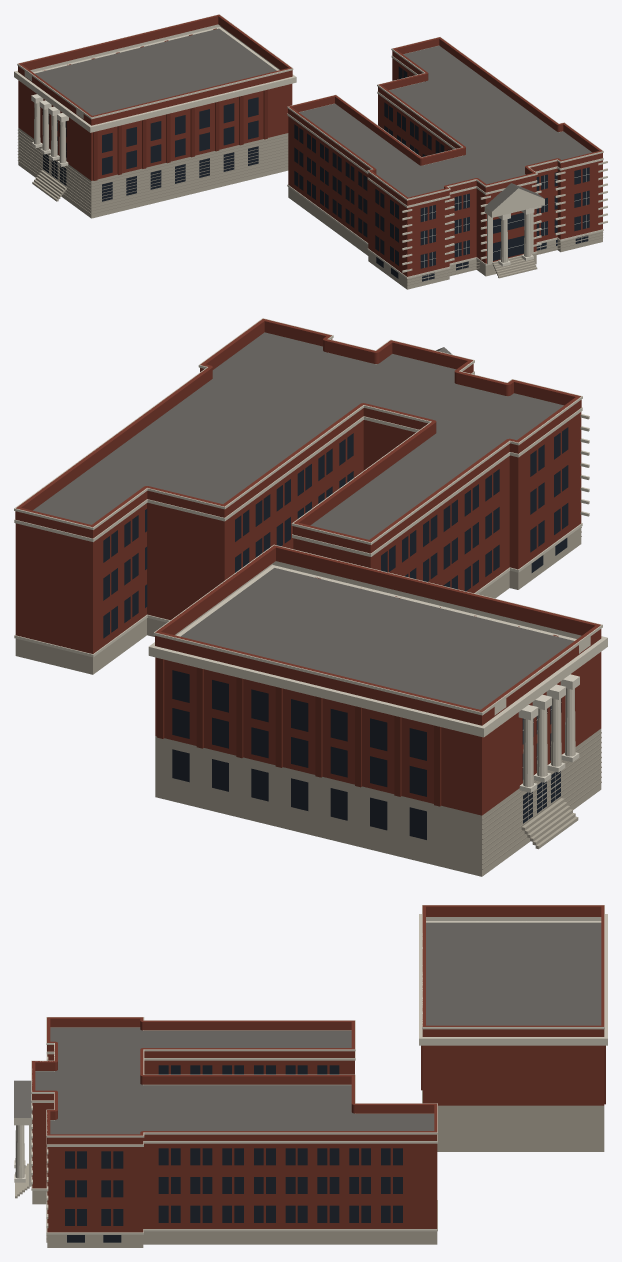
Rendered from east-side-junior-high-1961.glb.
3 renders of one model, top to bottom at view 1: azimuth 30°, elevation 25°; view 2: azimuth 150°, elevation 25°; view 3: azimuth 270°, elevation 25°, orthographic. The views are drawn at different scales.
Parts seen in each view (by area): view 1: east_brick, east_roof, east_stone, east_glass, east_base, east_joint, east_brick2, east_trim, east_sash; view 2: east_brick, east_roof, east_base, east_glass, east_stone, east_brick2, east_joint, east_trim; view 3: east_brick, east_roof, east_base, east_glass, east_stone.
Part boxes in pixels (x1,y1,x2,y2): east_brick: [18, 14, 602, 276]; east_roof: [34, 28, 591, 211]; east_stone: [14, 14, 607, 278]; east_glass: [42, 66, 589, 281]; east_base: [18, 128, 602, 289]; east_joint: [17, 130, 603, 285]; east_brick2: [44, 28, 267, 180]; east_trim: [31, 94, 534, 266]; east_sash: [43, 122, 589, 279]; east_brick: [15, 318, 601, 815]; east_roof: [33, 332, 574, 709]; east_base: [15, 527, 601, 876]; east_glass: [103, 427, 568, 839]; east_stone: [14, 318, 607, 786]; east_brick2: [157, 577, 558, 806]; east_joint: [482, 527, 601, 869]; east_trim: [518, 674, 579, 792]; east_brick: [32, 905, 604, 1232]; east_roof: [14, 922, 601, 1134]; east_base: [15, 1105, 604, 1247]; east_glass: [65, 1065, 402, 1242]; east_stone: [14, 905, 607, 1234].
Size of the model in its own units: 70.87 by 18.3 by 78.61.
